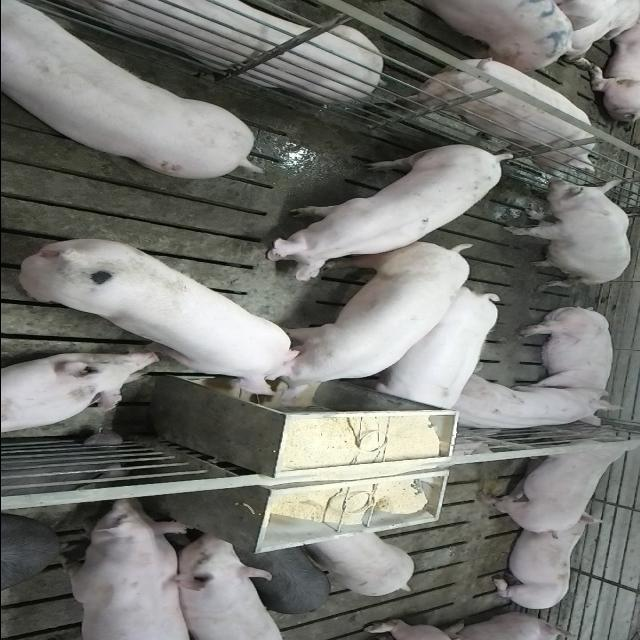Feeding: (16, 236, 306, 402), (255, 238, 474, 406)
Lateral_lying: (513, 302, 619, 408)
Sitting: (501, 176, 632, 286)
Standing: (0, 0, 258, 176), (256, 143, 514, 281), (383, 60, 596, 176), (42, 498, 194, 639), (361, 284, 501, 412), (474, 432, 640, 538), (384, 0, 576, 70), (172, 535, 284, 640), (234, 538, 332, 614), (302, 531, 414, 597), (2, 516, 68, 601)
Sternal_lying: (36, 0, 380, 100), (0, 352, 159, 438), (485, 517, 604, 613), (446, 376, 611, 434)
